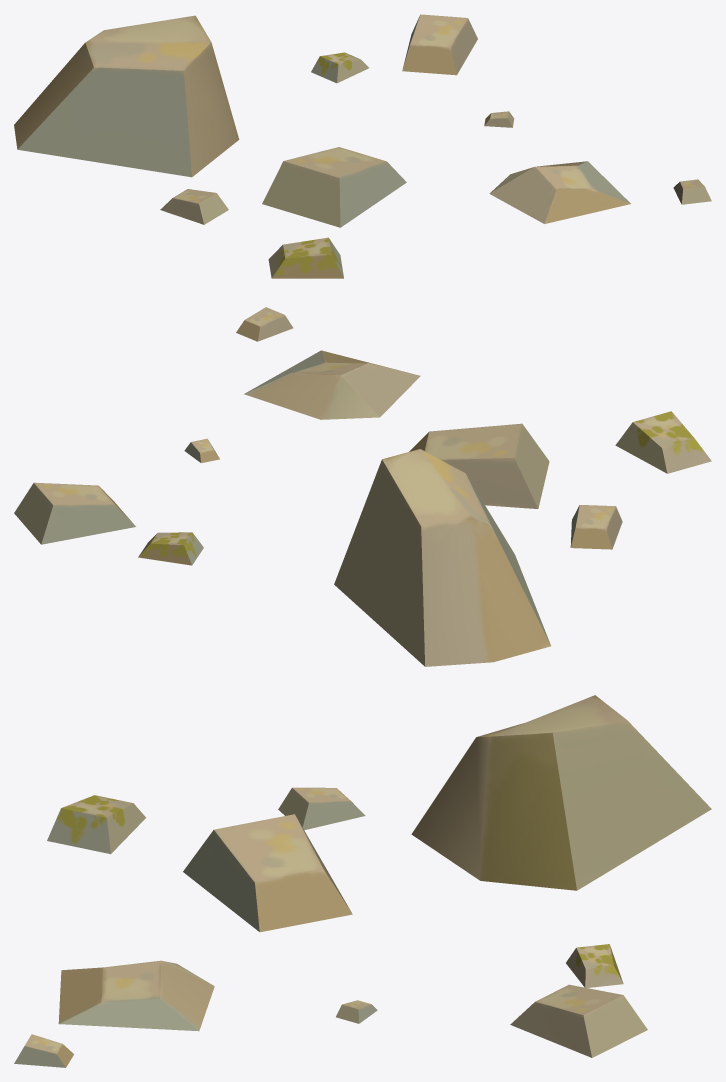
Rendered from soil_untilled.fbx.
3 renders of one model, top to bottom at view 1: azimuth 30°, elevation 25°; view 2: azimuth 150°, elevation 25°; view 3: azimuth 270°, elevation 25°, orthographic. The views are drawn at different scales.
Visible parts, largest first — view 1: untilled_soil; view 2: untilled_soil; view 3: untilled_soil.
Part boxes in pixels (<box>): untilled_soil: <box>14,14,711,278</box>; untilled_soil: <box>14,307,711,666</box>; untilled_soil: <box>14,695,711,1067</box>.
Size of the model in its own units: 2.15 by 0.4655 by 2.13.
1 material, 1 textured.
